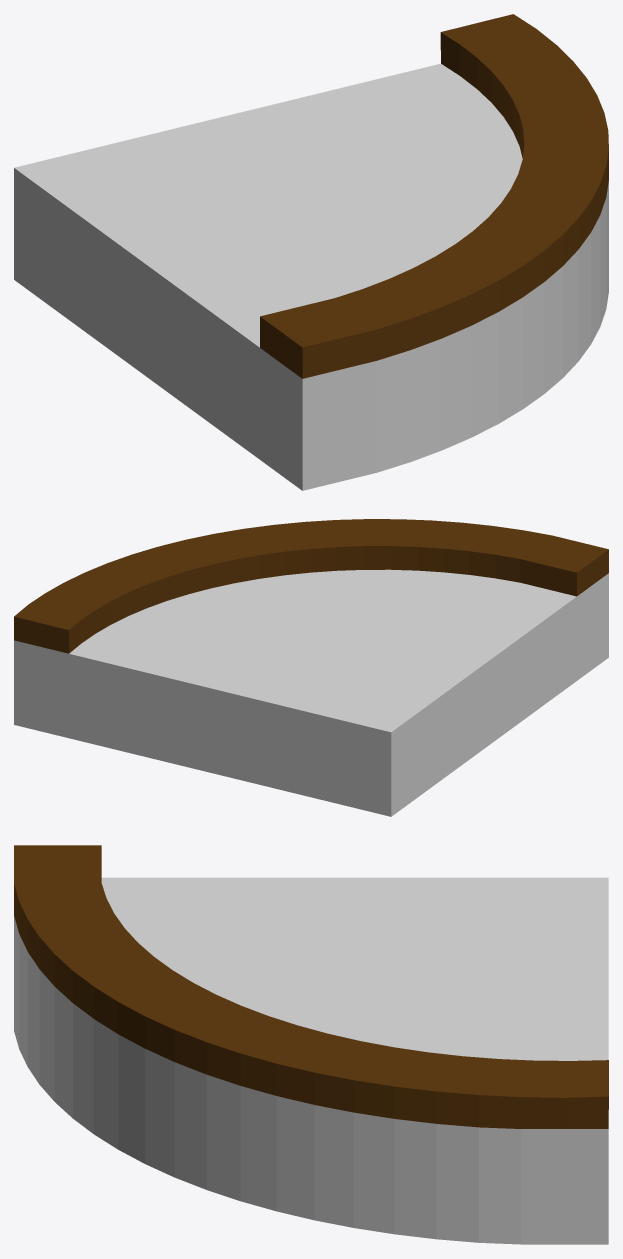
File: GroundRounded.fbx
3 renders of one model, top to bottom at view 1: azimuth 30°, elevation 25°; view 2: azimuth 150°, elevation 25°; view 3: azimuth 270°, elevation 25°, orthographic. The views are drawn at different scales.
Parts seen in each view (by area): view 1: Cube.002, Wall.001; view 2: Cube.002, Wall.001; view 3: Cube.002, Wall.001.
Boxes of the visible parts, x1,y1,x2,y2 form: Cube.002: (14, 63, 608, 490); Wall.001: (260, 14, 608, 378); Cube.002: (14, 569, 608, 816); Wall.001: (14, 519, 608, 653); Cube.002: (14, 877, 608, 1244); Wall.001: (14, 845, 608, 1128).
Bounding box in the file's own units: 201 × 54.95 × 200.
